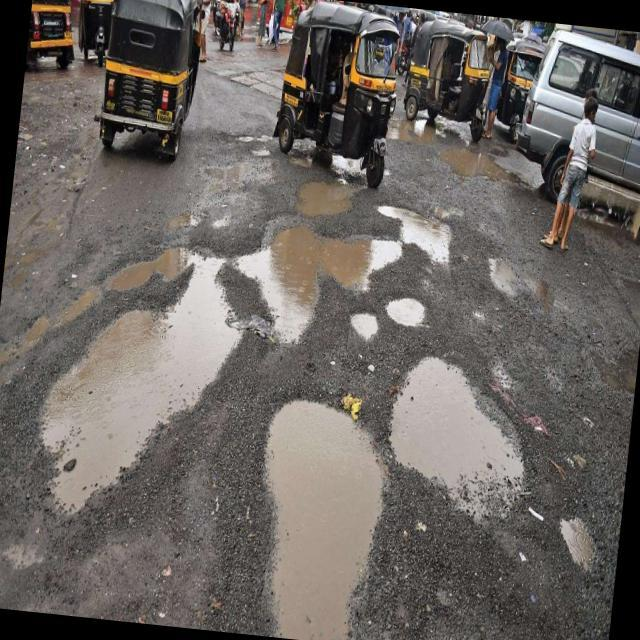Pothole: (0, 238, 256, 521), (237, 372, 405, 640), (377, 340, 550, 502), (234, 193, 398, 332), (340, 87, 528, 194), (540, 464, 613, 572), (370, 183, 465, 263), (299, 166, 388, 224), (338, 299, 404, 368), (388, 303, 442, 353)
